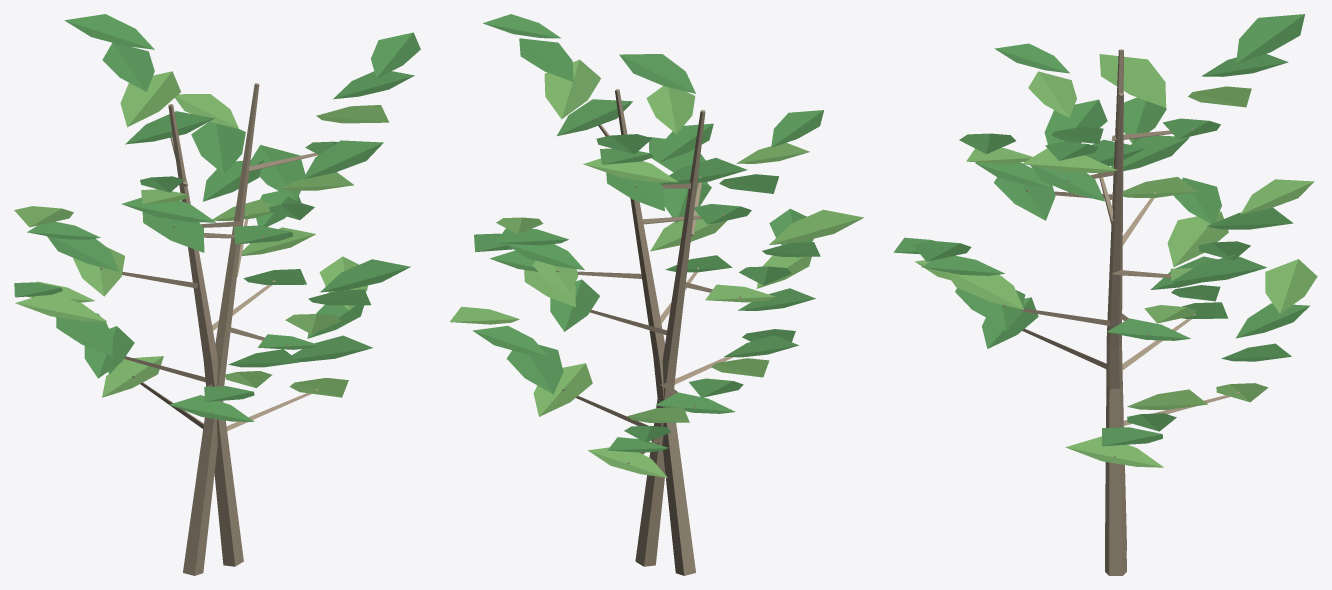
Rendered from birch_sapling_03.glb.
3 renders of one model, left to right at view 1: azimuth 30°, elevation 25°; view 2: azimuth 150°, elevation 25°; view 3: azimuth 270°, elevation 25°, orthographic. The views are drawn at different scales.
Parts seen in each view (by area): view 1: Birch_sapling_800_03; view 2: Birch_sapling_800_03; view 3: Birch_sapling_800_03.
Part boxes in pixels (box(x1,y1,x2,y2)): Birch_sapling_800_03: box(14, 14, 420, 575); Birch_sapling_800_03: box(450, 14, 863, 575); Birch_sapling_800_03: box(893, 14, 1317, 575).
Size of the model in its own units: 1.52 by 1.87 by 1.38.
